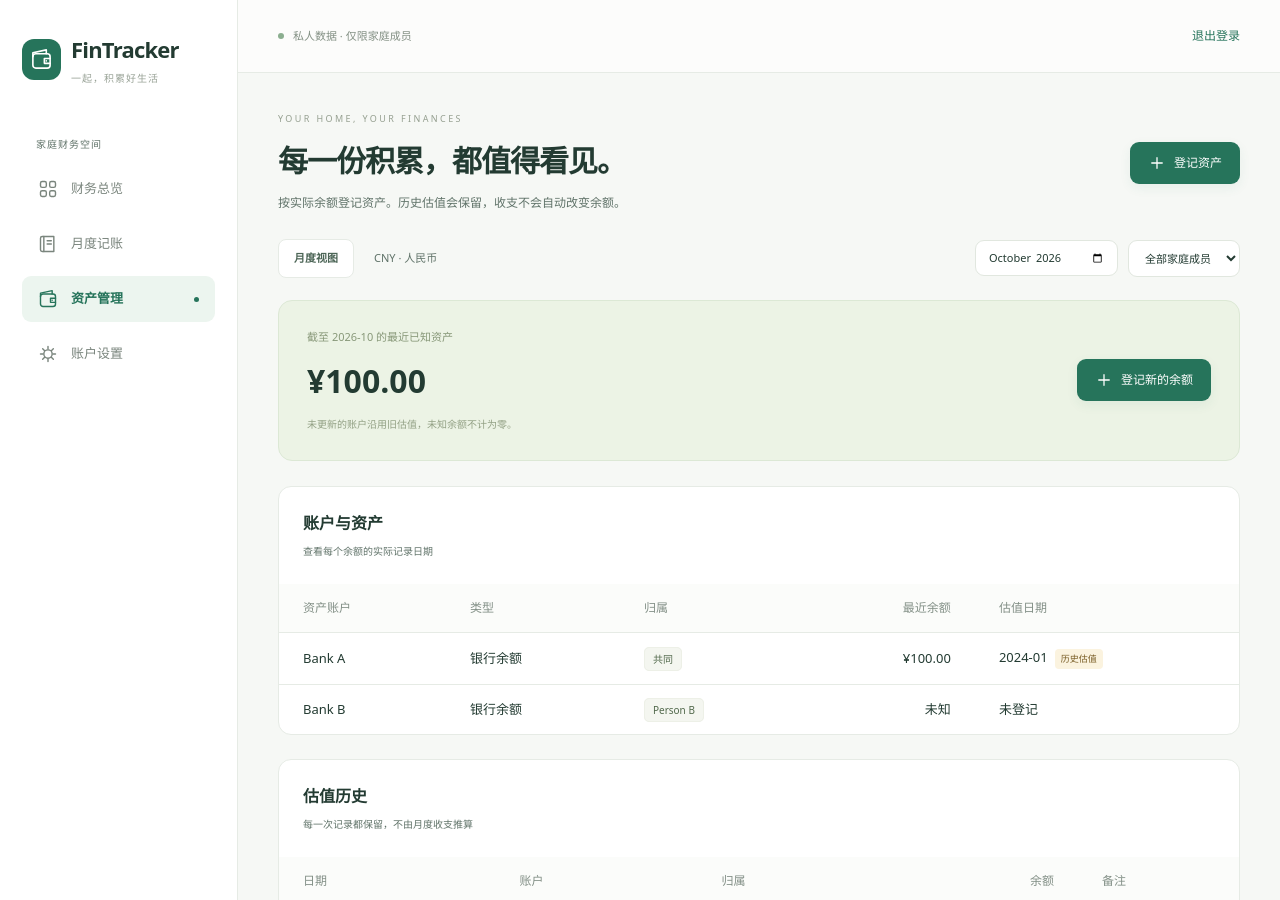
household interface › uses the recorded shared owner instead of changed account metadata
Step 1. Replace the text in the field named "记录月份" with "2024-01" → (1046, 258), box [975,240,1118,276]
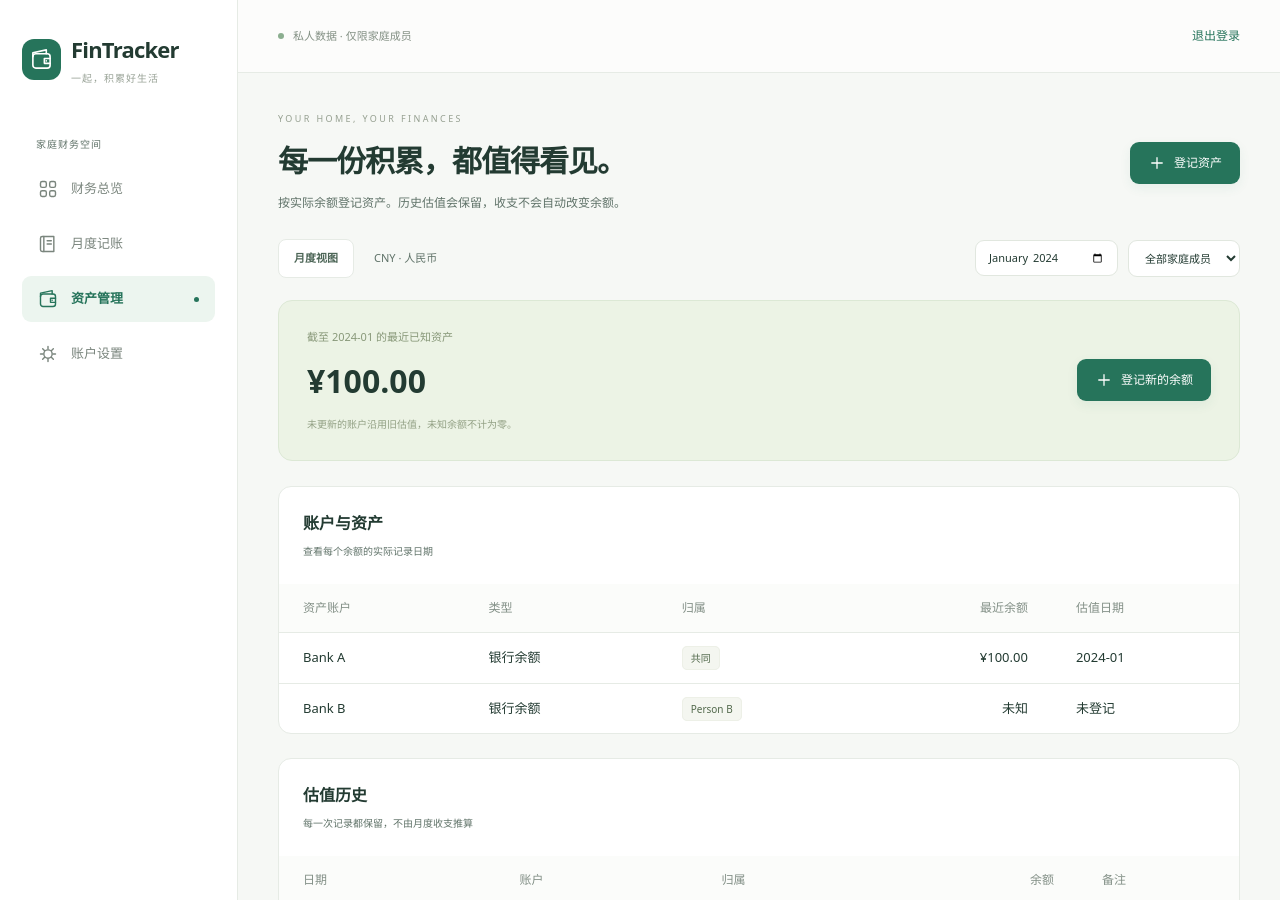
Step 2. Select "共同账户" in the dropdown named "归属筛选" → (1184, 258), box [1128,240,1240,277]
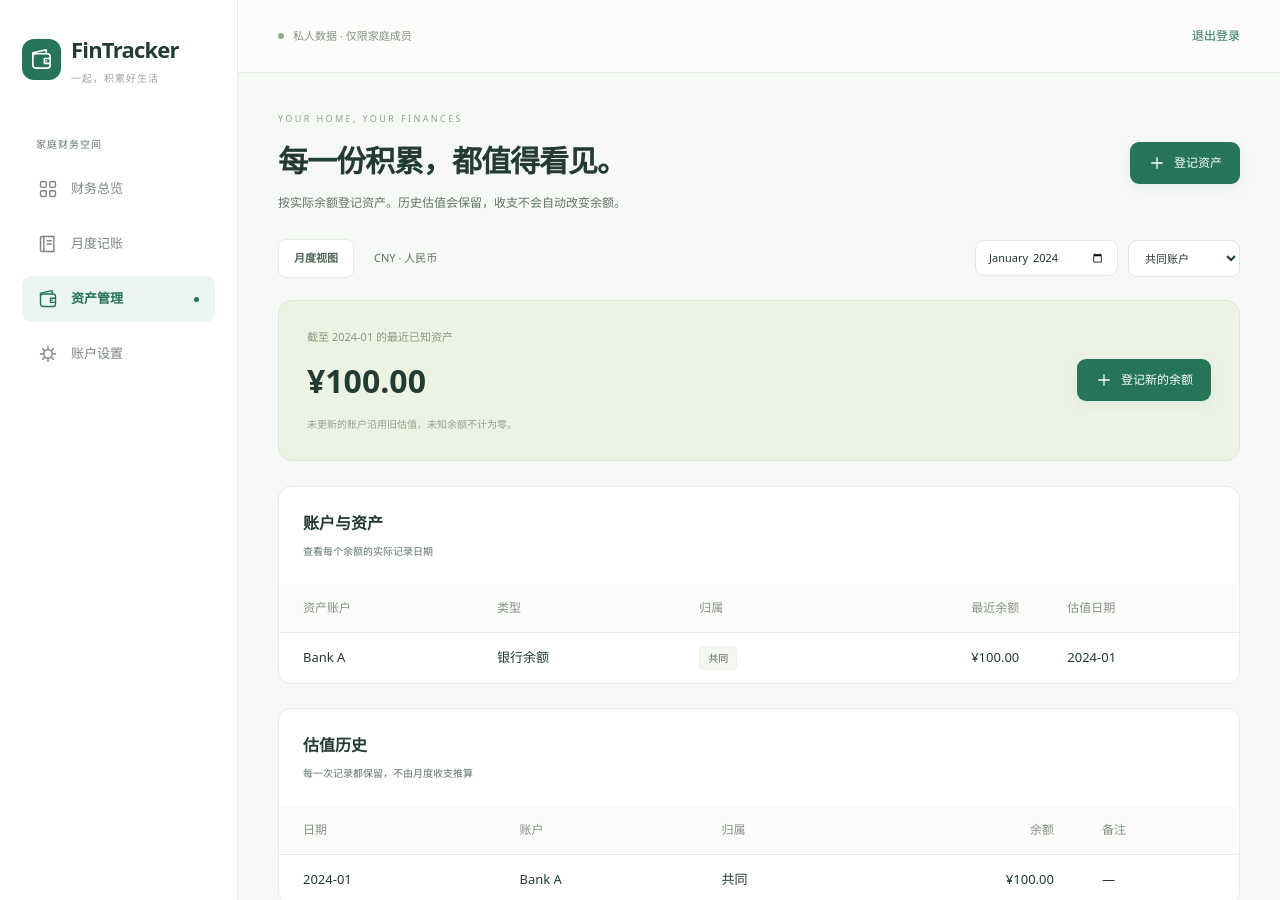
Check: the text "Bank A" next to "银行余额" is shown, box [303,648,345,666]
Check: the text "Bank B" is gone
